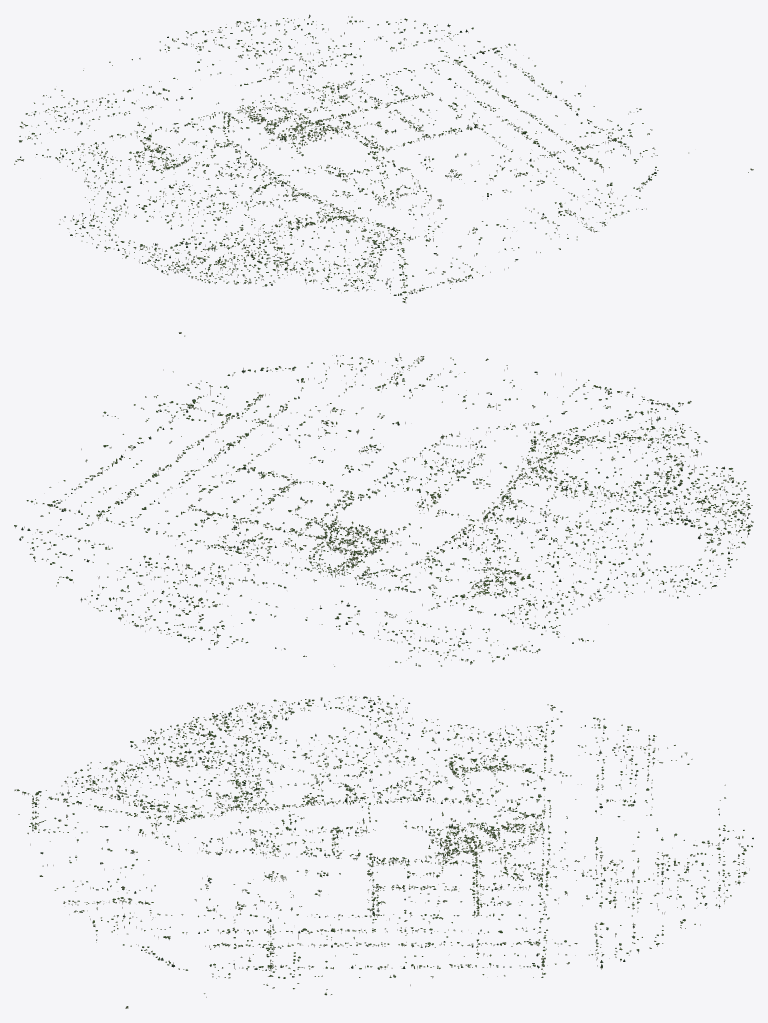
The model's file is ikon_park_backdrop_part2.glb.
The picture shows the model from 3 angles, top to bottom: view 1: azimuth 30°, elevation 25°; view 2: azimuth 150°, elevation 25°; view 3: azimuth 270°, elevation 25°; orthographic projection. The views are drawn at different scales.
Visible parts, largest first — view 1: bg_trees_joined_s08, bg_trees_joined_s09, bg_trees_joined_s15, bg_trees_joined_s13, bg_trees_joined_s11, bg_trees_joined_s12, bg_trees_joined_s06, bg_trees_joined_s05, bg_trees_joined_s10, bg_trees_joined_s14, bg_trees_joined_s00, bg_trees_joined_s01 (+1 smaller); view 2: bg_trees_joined_s08, bg_trees_joined_s09, bg_trees_joined_s15, bg_trees_joined_s13, bg_trees_joined_s11, bg_trees_joined_s06, bg_trees_joined_s12, bg_trees_joined_s05, bg_trees_joined_s10, bg_trees_joined_s14, bg_trees_joined_s00, bg_trees_joined_s01 (+2 smaller); view 3: bg_trees_joined_s08, bg_trees_joined_s09, bg_trees_joined_s15, bg_trees_joined_s13, bg_trees_joined_s11, bg_trees_joined_s12, bg_trees_joined_s06, bg_trees_joined_s05, bg_trees_joined_s10, bg_trees_joined_s14, bg_trees_joined_s00, bg_trees_joined_s01 (+2 smaller).
Boxes of the visible parts, x1,y1,x2,y2 form: bg_trees_joined_s08: (59, 189, 295, 284); bg_trees_joined_s09: (255, 204, 490, 302); bg_trees_joined_s15: (14, 120, 194, 223); bg_trees_joined_s13: (186, 14, 415, 96); bg_trees_joined_s11: (469, 93, 753, 188); bg_trees_joined_s12: (386, 23, 585, 117); bg_trees_joined_s06: (197, 100, 317, 148); bg_trees_joined_s05: (268, 86, 371, 141); bg_trees_joined_s10: (415, 170, 646, 270); bg_trees_joined_s14: (25, 36, 246, 131); bg_trees_joined_s00: (208, 165, 326, 209); bg_trees_joined_s01: (308, 165, 400, 215); bg_trees_joined_s08: (544, 475, 753, 591); bg_trees_joined_s09: (470, 379, 733, 492); bg_trees_joined_s15: (432, 554, 700, 662); bg_trees_joined_s13: (29, 535, 295, 642); bg_trees_joined_s11: (103, 332, 330, 473); bg_trees_joined_s06: (307, 526, 416, 585); bg_trees_joined_s12: (14, 445, 231, 550); bg_trees_joined_s05: (223, 518, 363, 573); bg_trees_joined_s10: (290, 353, 561, 447); bg_trees_joined_s14: (208, 578, 474, 666); bg_trees_joined_s00: (419, 495, 555, 548); bg_trees_joined_s01: (415, 452, 538, 508); bg_trees_joined_s08: (147, 695, 393, 791); bg_trees_joined_s09: (14, 739, 267, 842); bg_trees_joined_s15: (393, 695, 639, 786); bg_trees_joined_s13: (525, 840, 752, 948); bg_trees_joined_s11: (125, 900, 393, 1008); bg_trees_joined_s12: (393, 901, 639, 985); bg_trees_joined_s06: (425, 797, 551, 843); bg_trees_joined_s05: (428, 839, 562, 890); bg_trees_joined_s10: (30, 838, 260, 950); bg_trees_joined_s14: (523, 735, 753, 841); bg_trees_joined_s00: (287, 770, 393, 832); bg_trees_joined_s01: (227, 798, 367, 845).
Size of the model in its own units: 3092 by 88.56 by 3063.
1 material, 1 textured.
